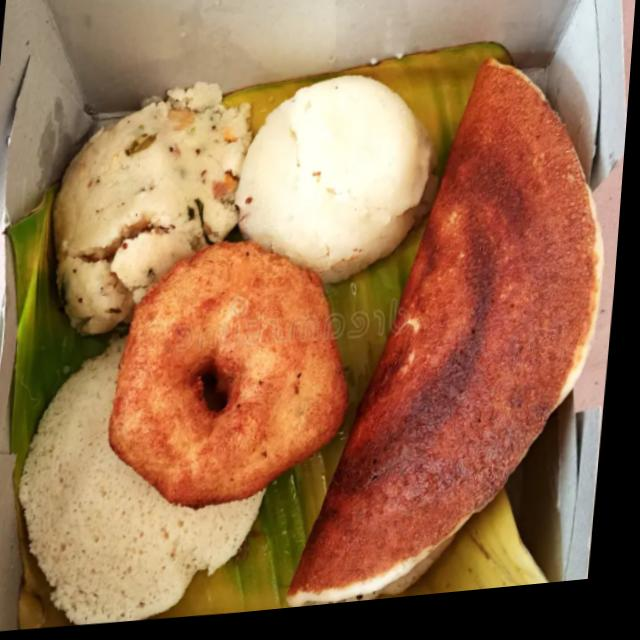DOSA: (284, 56, 605, 607)
IDLI: (16, 334, 266, 624)
PONGAL: (43, 83, 252, 335)
SWEET: (233, 74, 434, 280)
VADA: (107, 238, 346, 507)
